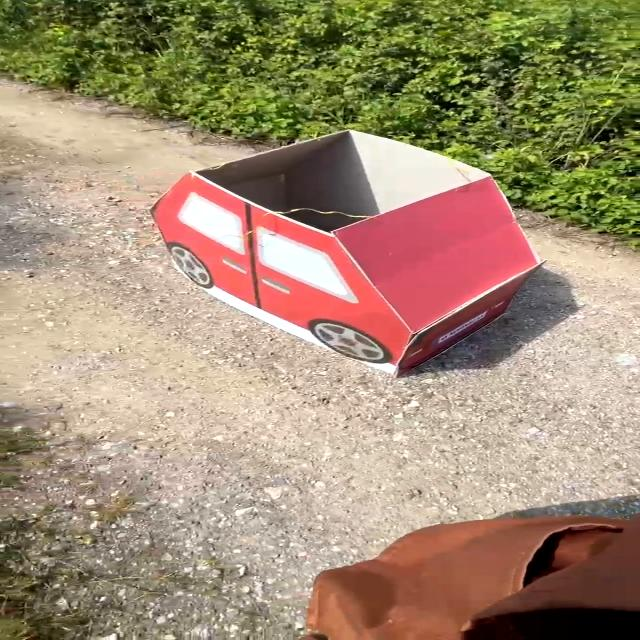red_car: (123, 102, 560, 392)
